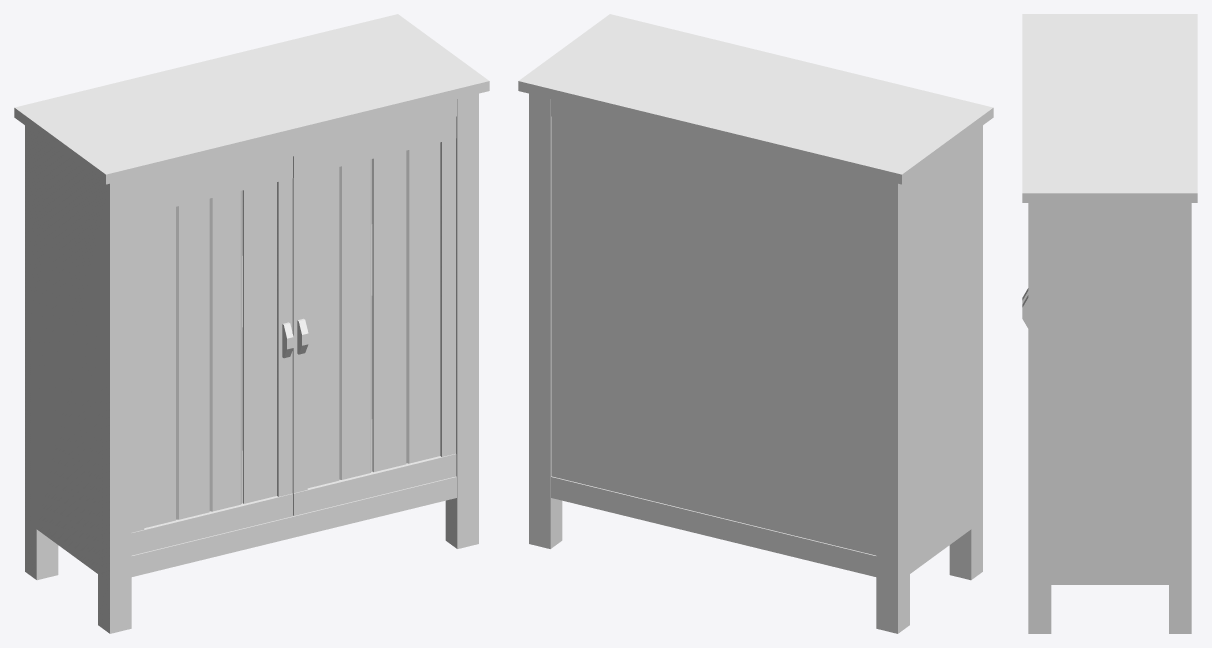
The model's file is Prop_Cupboard_01.glb.
3 renders of one model, left to right at view 1: azimuth 30°, elevation 25°; view 2: azimuth 150°, elevation 25°; view 3: azimuth 270°, elevation 25°, orthographic. The views are drawn at different scales.
Visible parts, largest first — view 1: Prop_Cupboard_01, Prop_Cupboard_Right_01, Prop_Cupboard_Left_01; view 2: Prop_Cupboard_01; view 3: Prop_Cupboard_01.
Boxes of the visible parts, x1=… form: Prop_Cupboard_01: x1=14, y1=14, x2=489, y2=633; Prop_Cupboard_Right_01: x1=292, y1=116, x2=456, y2=515; Prop_Cupboard_Left_01: x1=131, y1=156, x2=293, y2=555; Prop_Cupboard_01: x1=518, y1=14, x2=993, y2=633; Prop_Cupboard_01: x1=1022, y1=14, x2=1197, y2=633.
Size of the model in its own units: 0.7921 by 0.9144 by 0.3277.
Materials: 1 (1 with a texture image).
